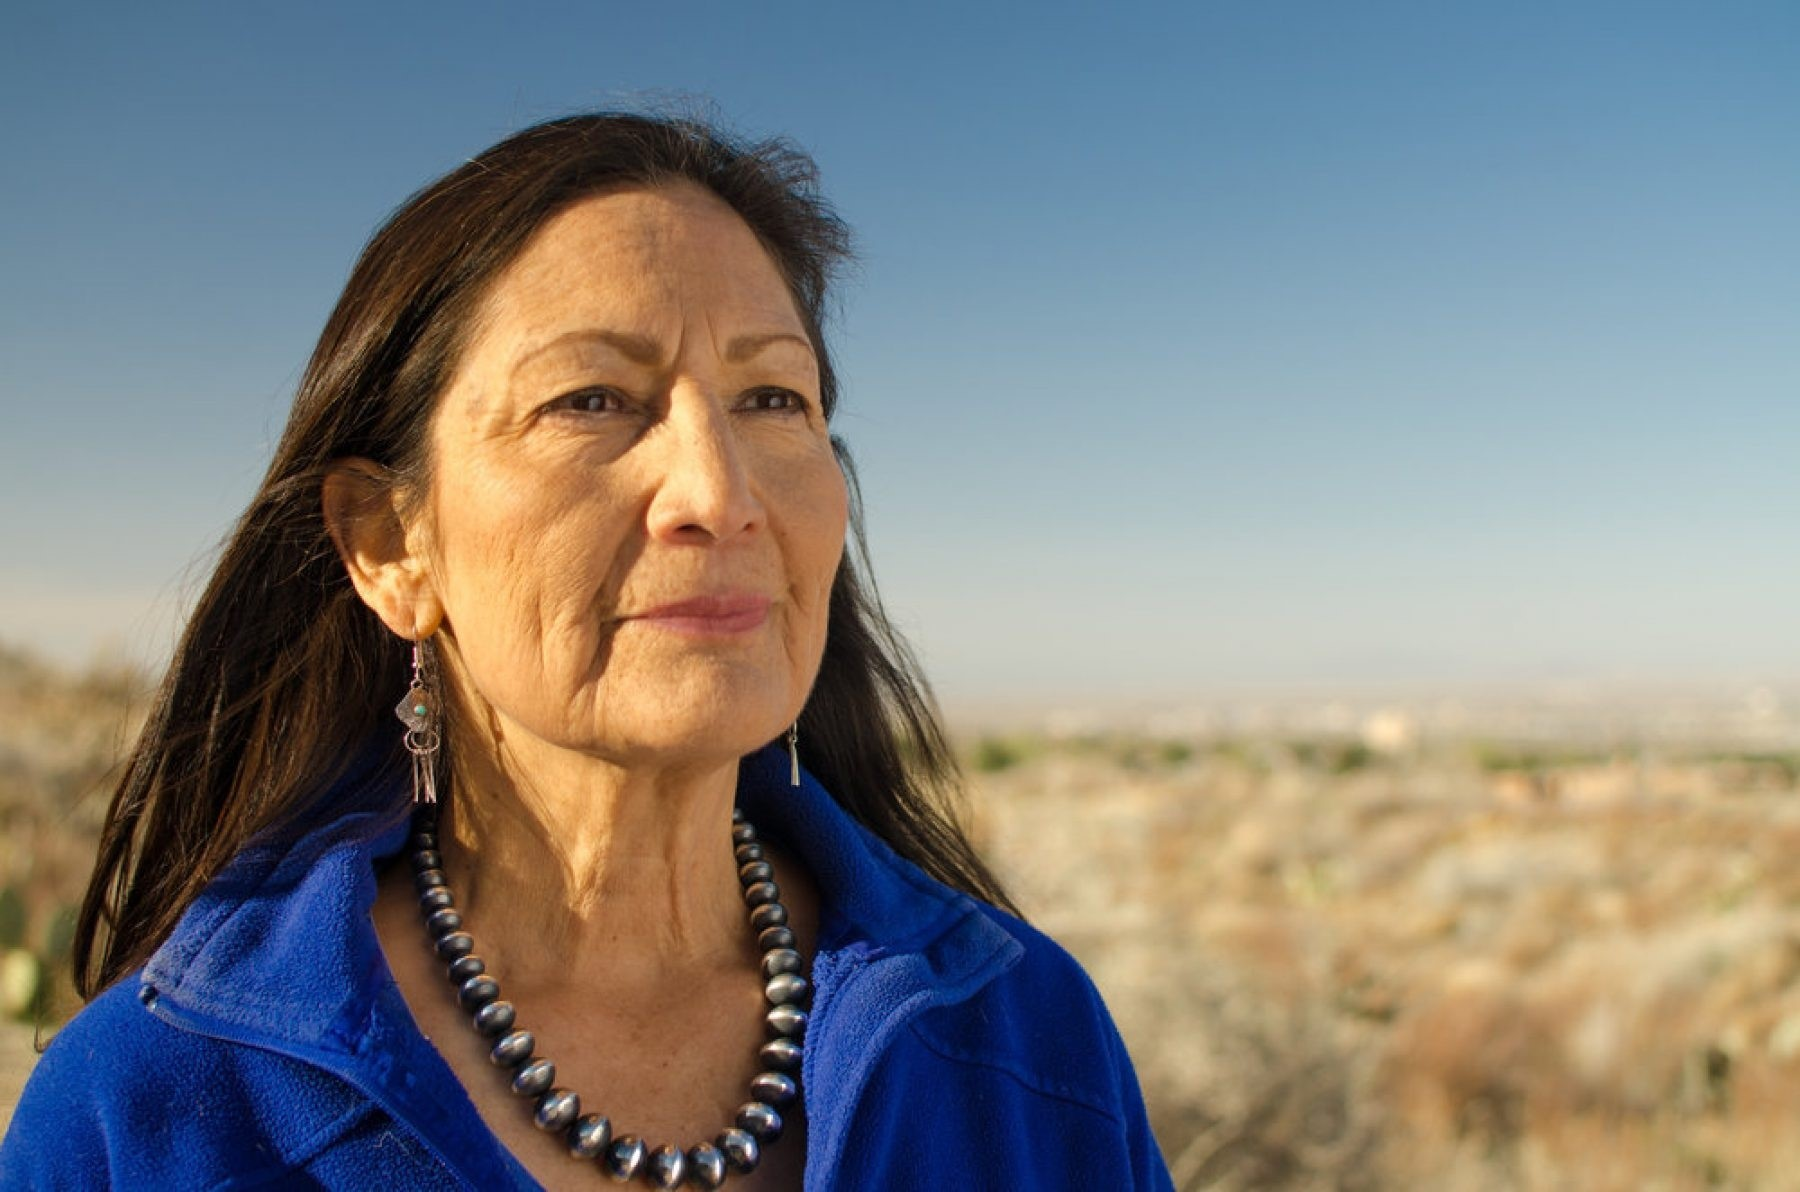face_no_mask: (321, 118, 848, 765)
